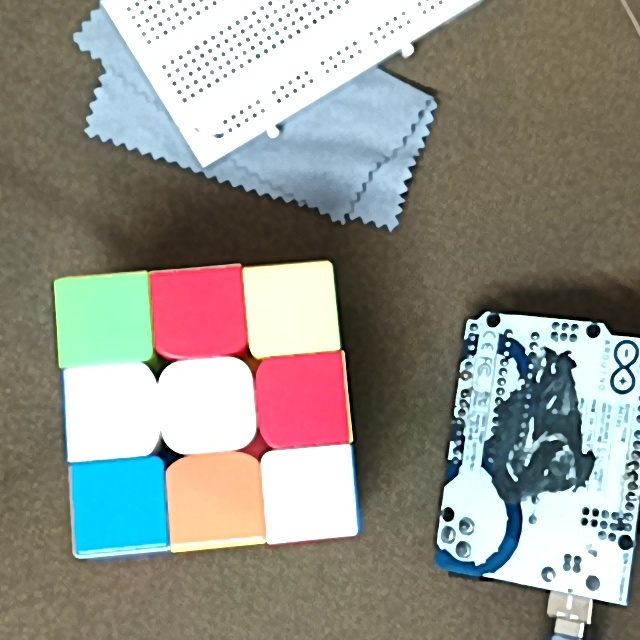tile: (63, 282, 146, 354), (267, 363, 343, 439), (162, 274, 240, 348), (272, 455, 348, 530), (255, 271, 330, 346), (70, 375, 144, 451), (80, 469, 153, 541), (176, 466, 253, 534), (171, 375, 247, 441)
